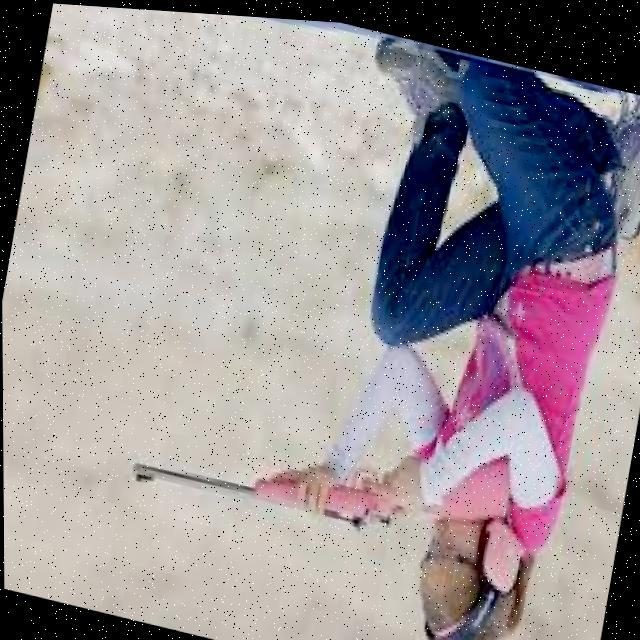firearm: (125, 358, 517, 566)
